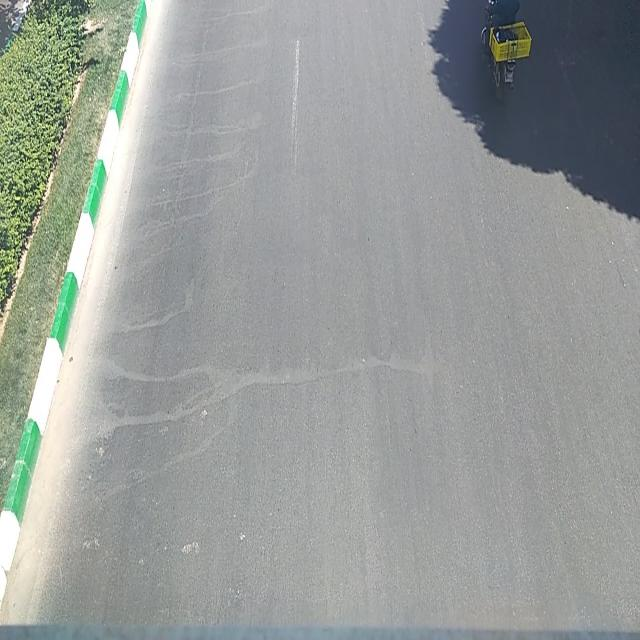motor: (476, 3, 529, 98)
